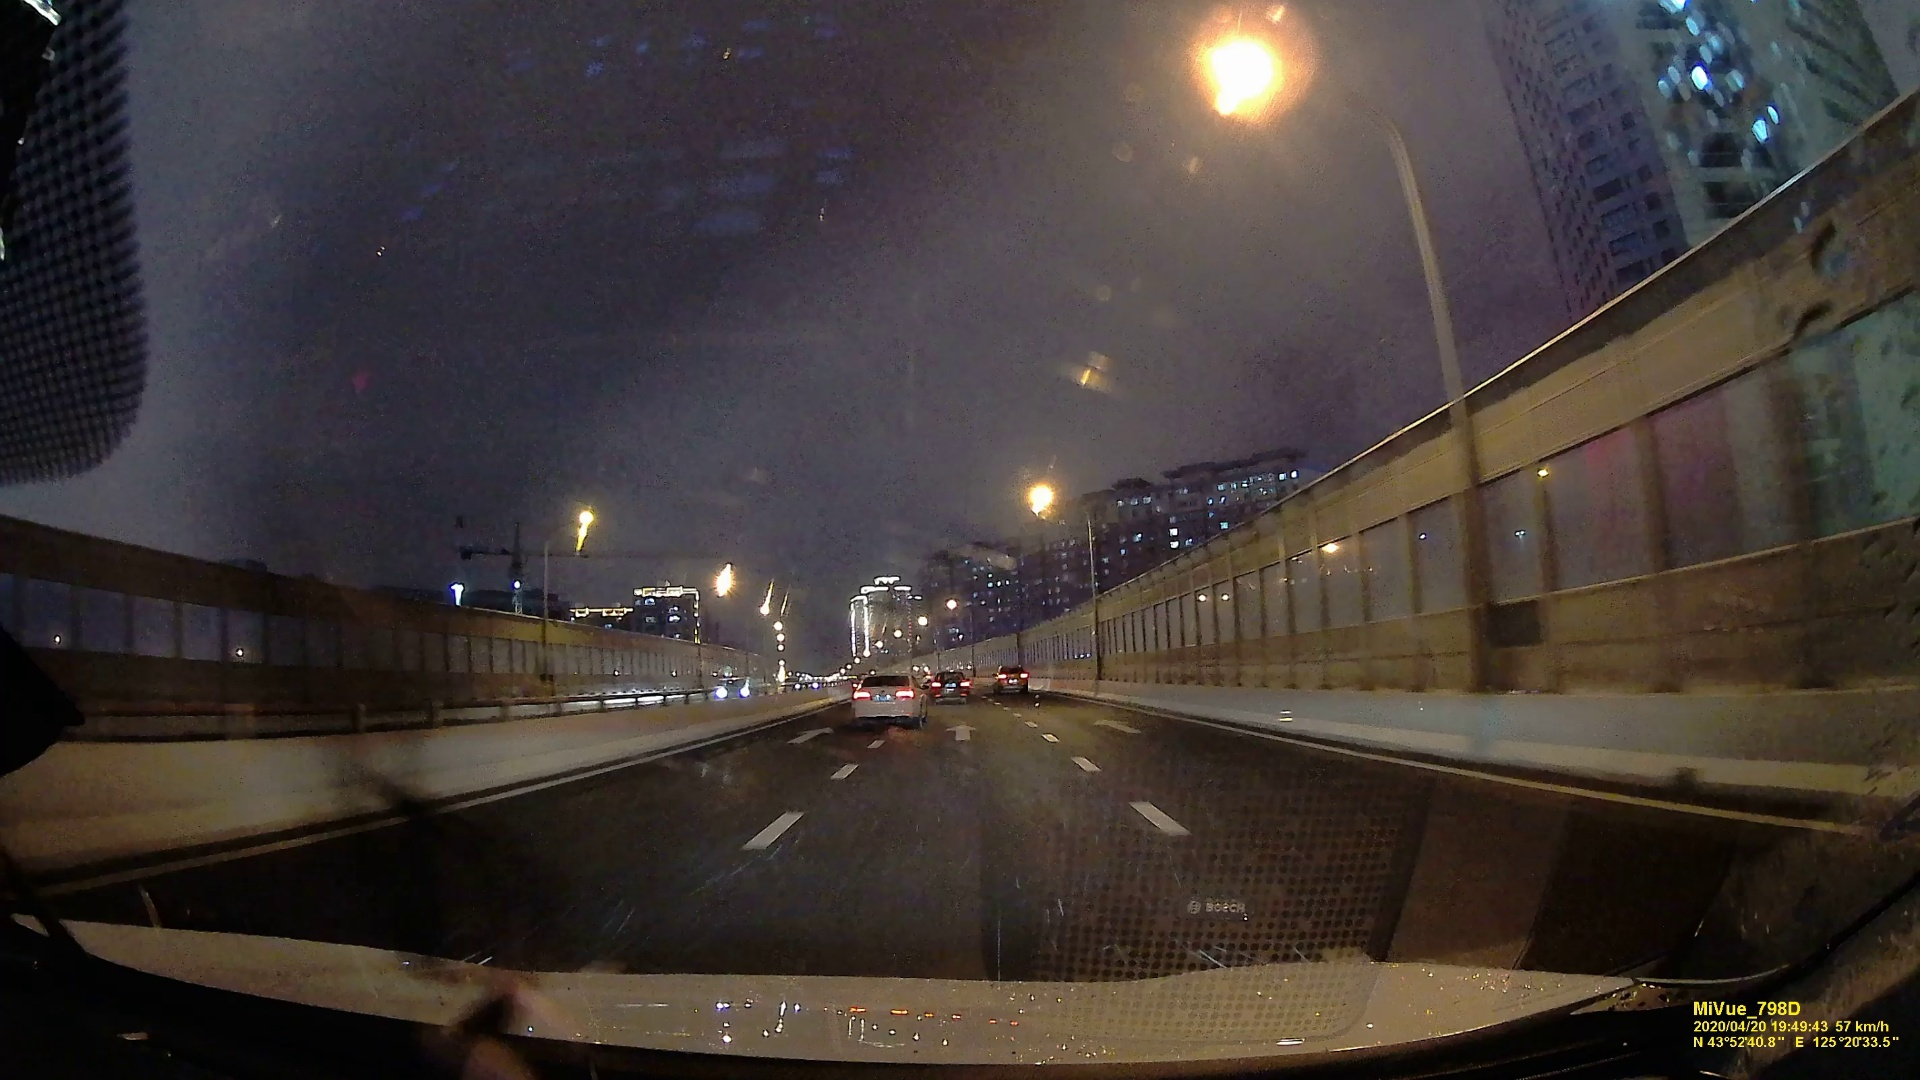vehicle: (849, 669, 926, 727), (992, 663, 1029, 694), (930, 673, 967, 702)
